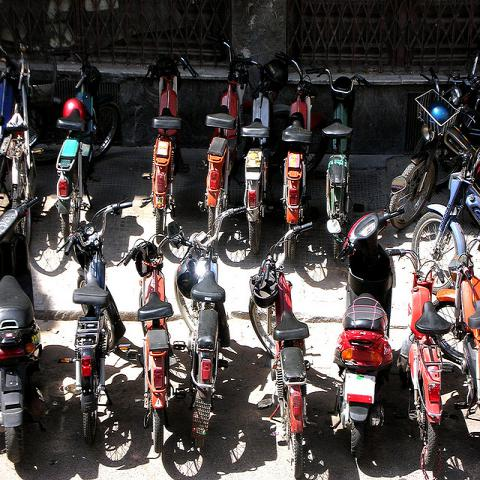motorcycle: (4, 50, 479, 405), (168, 206, 249, 451), (326, 207, 404, 426), (248, 221, 312, 474), (115, 232, 186, 458), (386, 248, 456, 468), (67, 205, 129, 443), (55, 48, 118, 246), (198, 43, 262, 234), (139, 49, 199, 244), (0, 198, 43, 468), (240, 56, 290, 253), (316, 68, 369, 232), (282, 56, 316, 255)
